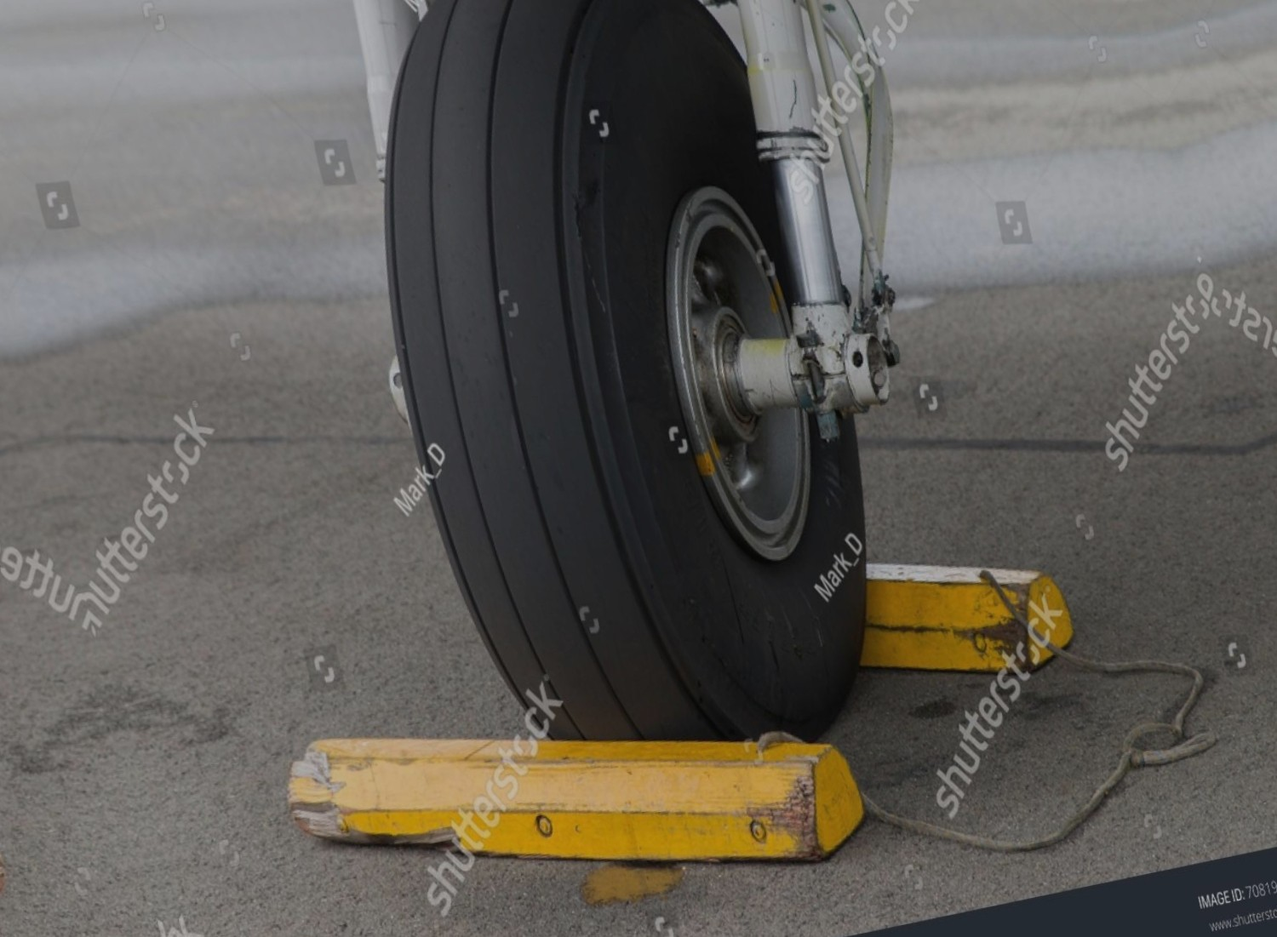chock: (267, 627, 883, 937), (679, 513, 1085, 739)
wheel: (289, 0, 906, 809)
